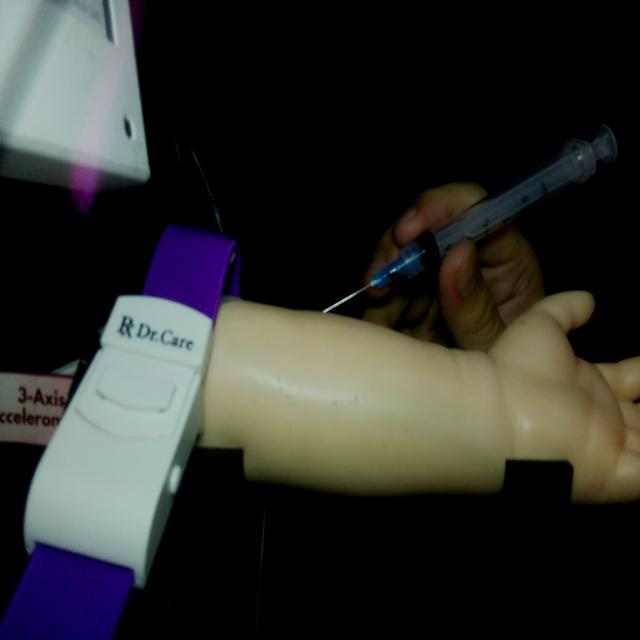23 degrees: (321, 119, 619, 316)
